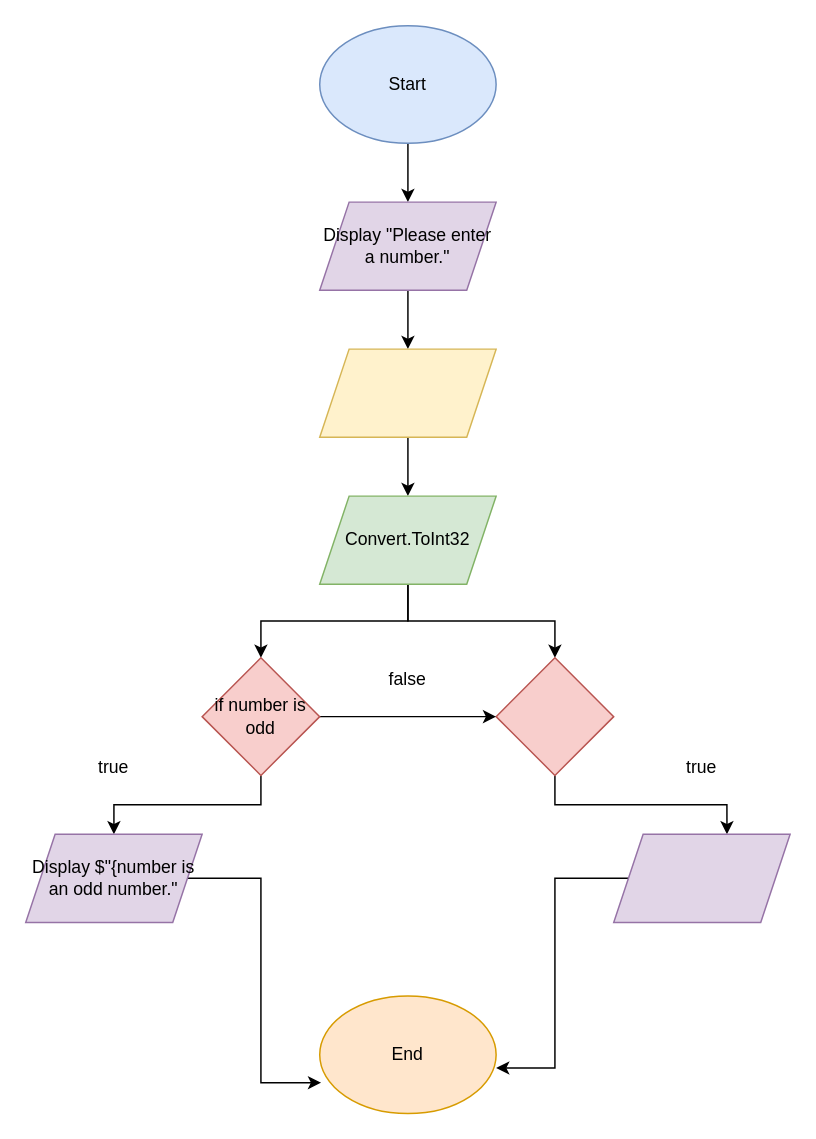
Some shapes in this 816 by 1139 pixel diagram are drawn without their labels. Here are the shapes that lost their labels. From the top down, the centre of each, then its label:
point (407, 392): User enters number
point (554, 715): if number is even
point (701, 877): Display $"{number is a even number."
